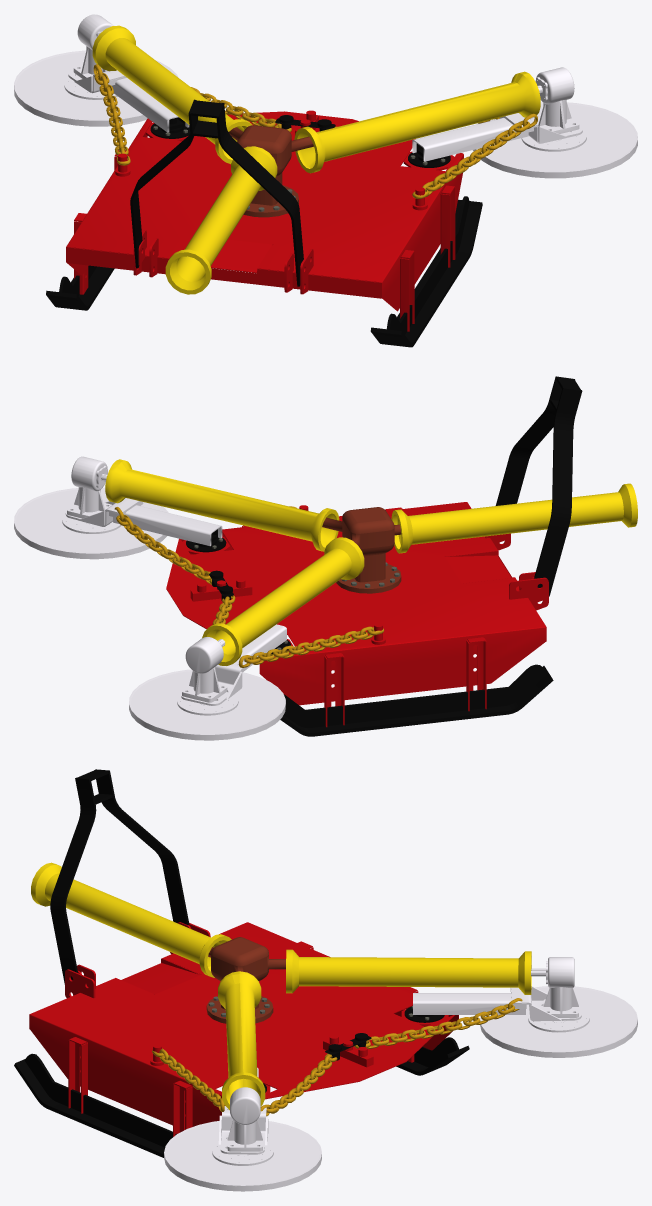
File: modelo.obj
3 renders of one model, top to bottom at view 1: azimuth 30°, elevation 25°; view 2: azimuth 150°, elevation 25°; view 3: azimuth 270°, elevation 25°, orthographic. The views are drawn at different scales.
Parts seen in each view (by area): view 1: AW-DM1.002, Cylinder.012, Cylinder.018, Plane.002, AW-DM1.003, Cylinder.016, Plane.003, Cube.008, Cube.007, Cube.012, Cube.013, Cylinder.009 (+3 smaller); view 2: AW-DM1.002, Cylinder.012, Cylinder.018, Plane.002, Cylinder.016, AW-DM1.003, Plane.003, Cube.013, Cube.007, Cylinder.009, Cube.012, Cube.011 (+1 smaller); view 3: AW-DM1.002, Cylinder.012, Cylinder.018, AW-DM1.003, Plane.002, Plane.003, Cylinder.016, Cylinder.009, Cube.013, Cube.011, Cube.007, Cube.012 (+1 smaller).
Boxes of the visible parts, x1,y1,x2,y2 form: AW-DM1.002: [66, 111, 463, 331]; Cylinder.012: [92, 25, 540, 173]; Cylinder.018: [16, 52, 635, 174]; Plane.002: [46, 196, 482, 347]; AW-DM1.003: [64, 14, 586, 151]; Cylinder.016: [165, 146, 277, 294]; Plane.003: [130, 99, 303, 286]; Cube.008: [66, 245, 381, 298]; Cube.007: [108, 76, 533, 161]; Cube.012: [93, 64, 537, 198]; Cube.013: [228, 125, 313, 217]; Cylinder.009: [14, 50, 637, 178]; AW-DM1.002: [166, 502, 548, 727]; Cylinder.012: [105, 459, 364, 665]; Cylinder.018: [16, 489, 283, 736]; Plane.002: [280, 664, 553, 736]; Cylinder.016: [391, 483, 637, 553]; AW-DM1.003: [62, 456, 246, 715]; Plane.003: [495, 376, 582, 596]; Cube.013: [322, 507, 401, 593]; Cube.007: [109, 501, 286, 672]; Cylinder.009: [14, 487, 285, 740]; Cube.012: [239, 506, 384, 667]; Cube.011: [114, 507, 235, 624]; AW-DM1.002: [29, 922, 458, 1136]; Cylinder.012: [218, 949, 531, 1110]; Cylinder.018: [166, 987, 635, 1187]; AW-DM1.003: [212, 957, 589, 1165]; Plane.002: [14, 1037, 469, 1157]; Plane.003: [50, 769, 189, 984]; Cylinder.016: [31, 862, 231, 977]; Cylinder.009: [164, 986, 637, 1191]; Cube.013: [206, 937, 285, 1023]; Cube.011: [260, 998, 522, 1116]; Cube.007: [227, 988, 526, 1110]; Cube.012: [152, 1048, 224, 1111].
Size of the model in its own units: 6.86 by 3.06 by 6.86.
